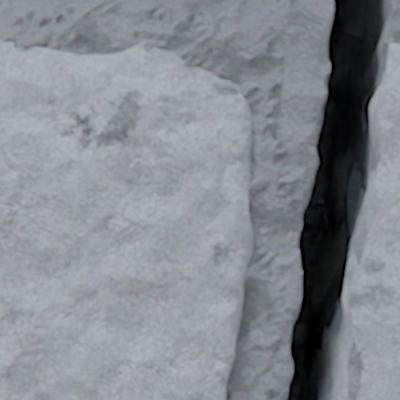brick: (0, 41, 253, 399), (350, 44, 399, 399)
crack: (278, 0, 399, 399)
